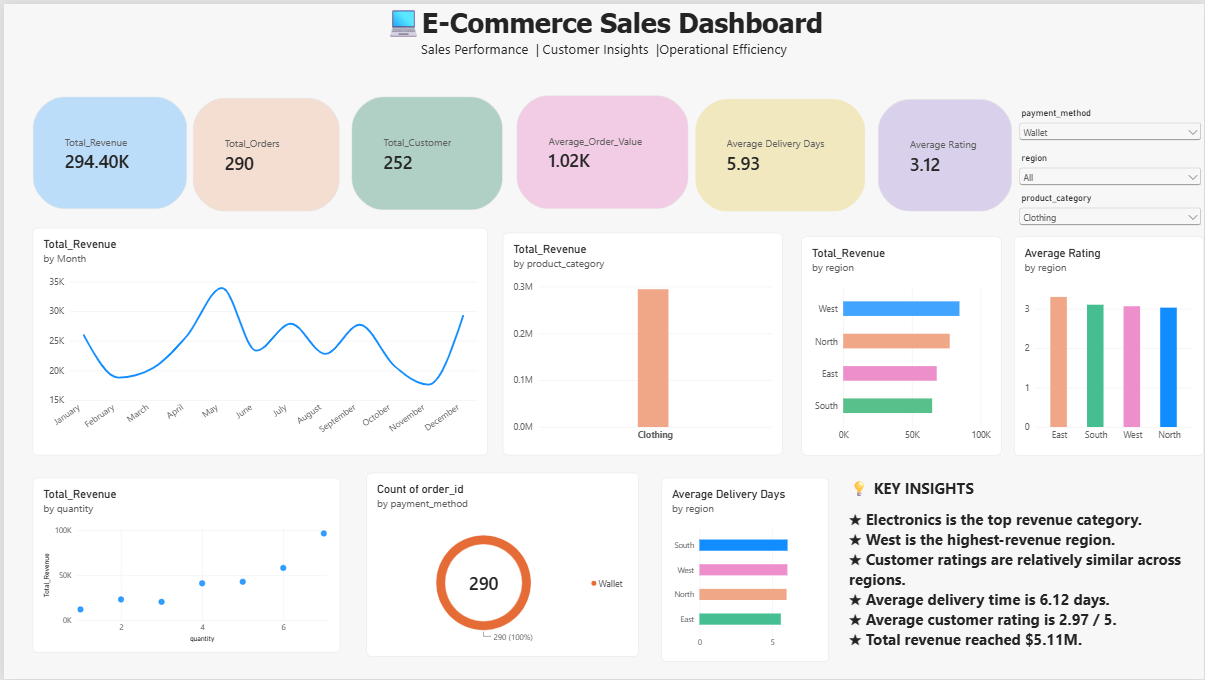

The page's visual inventory and layout, read from the dashboard file:
{"tool":"powerbi","page":{"name":"Page 1","canvas":[1920,1080],"ordinal":0},"visuals":[{"type":"cardVisual","fields":{"Data":["ecommerce_sales_cleaned.Total_Revenue"]},"box":[45,147.5,247.5,180],"z":0},{"type":"cardVisual","fields":{"Data":["ecommerce_sales_cleaned.Total_Orders"]},"box":[302.5,150,235,182.5],"z":1000},{"type":"cardVisual","fields":{"Data":["ecommerce_sales_cleaned.Total_Customer"]},"box":[555,147.5,242.5,182.5],"z":2000},{"type":"cardVisual","fields":{"Data":["ecommerce_sales_cleaned.Average_Order_Value"]},"box":[820,145,275,182.5],"z":3000},{"type":"cardVisual","fields":{"Data":["ecommerce_sales_cleaned.Average Rating"]},"box":[1397.5,152.5,215,180],"z":4000},{"type":"lineChart","title":"Monthly Revenue Trend","fields":{"Category":["ecommerce_sales_cleaned.month.Variation.Date Hierarchy.Month","ecommerce_sales_cleaned.month.Variation.Date Hierarchy.Day"],"Y":["ecommerce_sales_cleaned.Total_Revenue"]},"box":[46,358,728,364],"z":5000},{"type":"clusteredColumnChart","title":"Revenue by Product Category","fields":{"Category":["ecommerce_sales_cleaned.product_category"],"Y":["ecommerce_sales_cleaned.Total_Revenue"]},"box":[798,366,448,356],"z":6000},{"type":"clusteredBarChart","title":"Revenue by Region","fields":{"Category":["ecommerce_sales_cleaned.region"],"Y":["ecommerce_sales_cleaned.Total_Revenue"]},"box":[1276,372,320,350],"z":7000},{"type":"scatterChart","title":"Quantity vs Revenue","fields":{"X":["ecommerce_sales_cleaned.quantity"],"Y":["ecommerce_sales_cleaned.Total_Revenue"]},"box":[46,758,491.7,280],"z":8000},{"type":"donutChart","title":"Orders by Payment Method","fields":{"Category":["ecommerce_sales_cleaned.payment_method"],"Y":["CountNonNull(ecommerce_sales_cleaned.order_id)"]},"box":[580,750,436,294],"z":9000},{"type":"clusteredColumnChart","title":"Average Customer Rating by Region","fields":{"Category":["ecommerce_sales_cleaned.region"],"Y":["ecommerce_sales_cleaned.Average Rating"]},"box":[1616,372,304,350],"z":10000},{"type":"clusteredBarChart","title":"Average Delivery Time by Region","fields":{"Category":["ecommerce_sales_cleaned.region"],"Y":["ecommerce_sales_cleaned.Average Delivery Days"]},"box":[1052,758,268,294],"z":11000},{"type":"textbox","box":[0,0,1920,110],"z":12000},{"type":"textbox","box":[1280,1052,280,28],"z":13000},{"type":"textbox","box":[1352,758,568,294],"z":14000},{"type":"cardVisual","fields":{"Data":["ecommerce_sales_cleaned.Average Delivery Days"]},"box":[1105,152.5,272.5,180],"z":15000},{"type":"slicer","fields":{"Values":["ecommerce_sales_cleaned.product_category"]},"box":[1620,302.5,300,70],"z":15001},{"type":"slicer","fields":{"Values":["ecommerce_sales_cleaned.region"]},"box":[1620,237.5,300,60],"z":15002},{"type":"slicer","fields":{"Values":["ecommerce_sales_cleaned.payment_method"]},"box":[1620,165,300,75],"z":15003}]}

Visuals, with their boxes in screenshot pixels (x1, y1, x2, y2), scaled from the page's 1920x1080 canvas onto the 1205x680 screenshot:
cardVisual - ecommerce_sales_cleaned.Total_Revenue: (x1=28, y1=93, x2=184, y2=206)
cardVisual - ecommerce_sales_cleaned.Total_Orders: (x1=190, y1=94, x2=337, y2=209)
cardVisual - ecommerce_sales_cleaned.Total_Customer: (x1=348, y1=93, x2=501, y2=208)
cardVisual - ecommerce_sales_cleaned.Average_Order_Value: (x1=515, y1=91, x2=687, y2=206)
cardVisual - ecommerce_sales_cleaned.Average Rating: (x1=877, y1=96, x2=1012, y2=209)
"Monthly Revenue Trend" lineChart: (x1=29, y1=225, x2=486, y2=455)
"Revenue by Product Category" clusteredColumnChart: (x1=501, y1=230, x2=782, y2=455)
"Revenue by Region" clusteredBarChart: (x1=801, y1=234, x2=1002, y2=455)
"Quantity vs Revenue" scatterChart: (x1=29, y1=477, x2=337, y2=654)
"Orders by Payment Method" donutChart: (x1=364, y1=472, x2=638, y2=657)
"Average Customer Rating by Region" clusteredColumnChart: (x1=1014, y1=234, x2=1204, y2=455)
"Average Delivery Time by Region" clusteredBarChart: (x1=660, y1=477, x2=828, y2=662)
textbox: (x1=0, y1=0, x2=1204, y2=69)
textbox: (x1=803, y1=662, x2=979, y2=679)
textbox: (x1=849, y1=477, x2=1204, y2=662)
cardVisual - ecommerce_sales_cleaned.Average Delivery Days: (x1=694, y1=96, x2=865, y2=209)
slicer - ecommerce_sales_cleaned.product_category: (x1=1017, y1=190, x2=1204, y2=235)
slicer - ecommerce_sales_cleaned.region: (x1=1017, y1=150, x2=1204, y2=187)
slicer - ecommerce_sales_cleaned.payment_method: (x1=1017, y1=104, x2=1204, y2=151)
